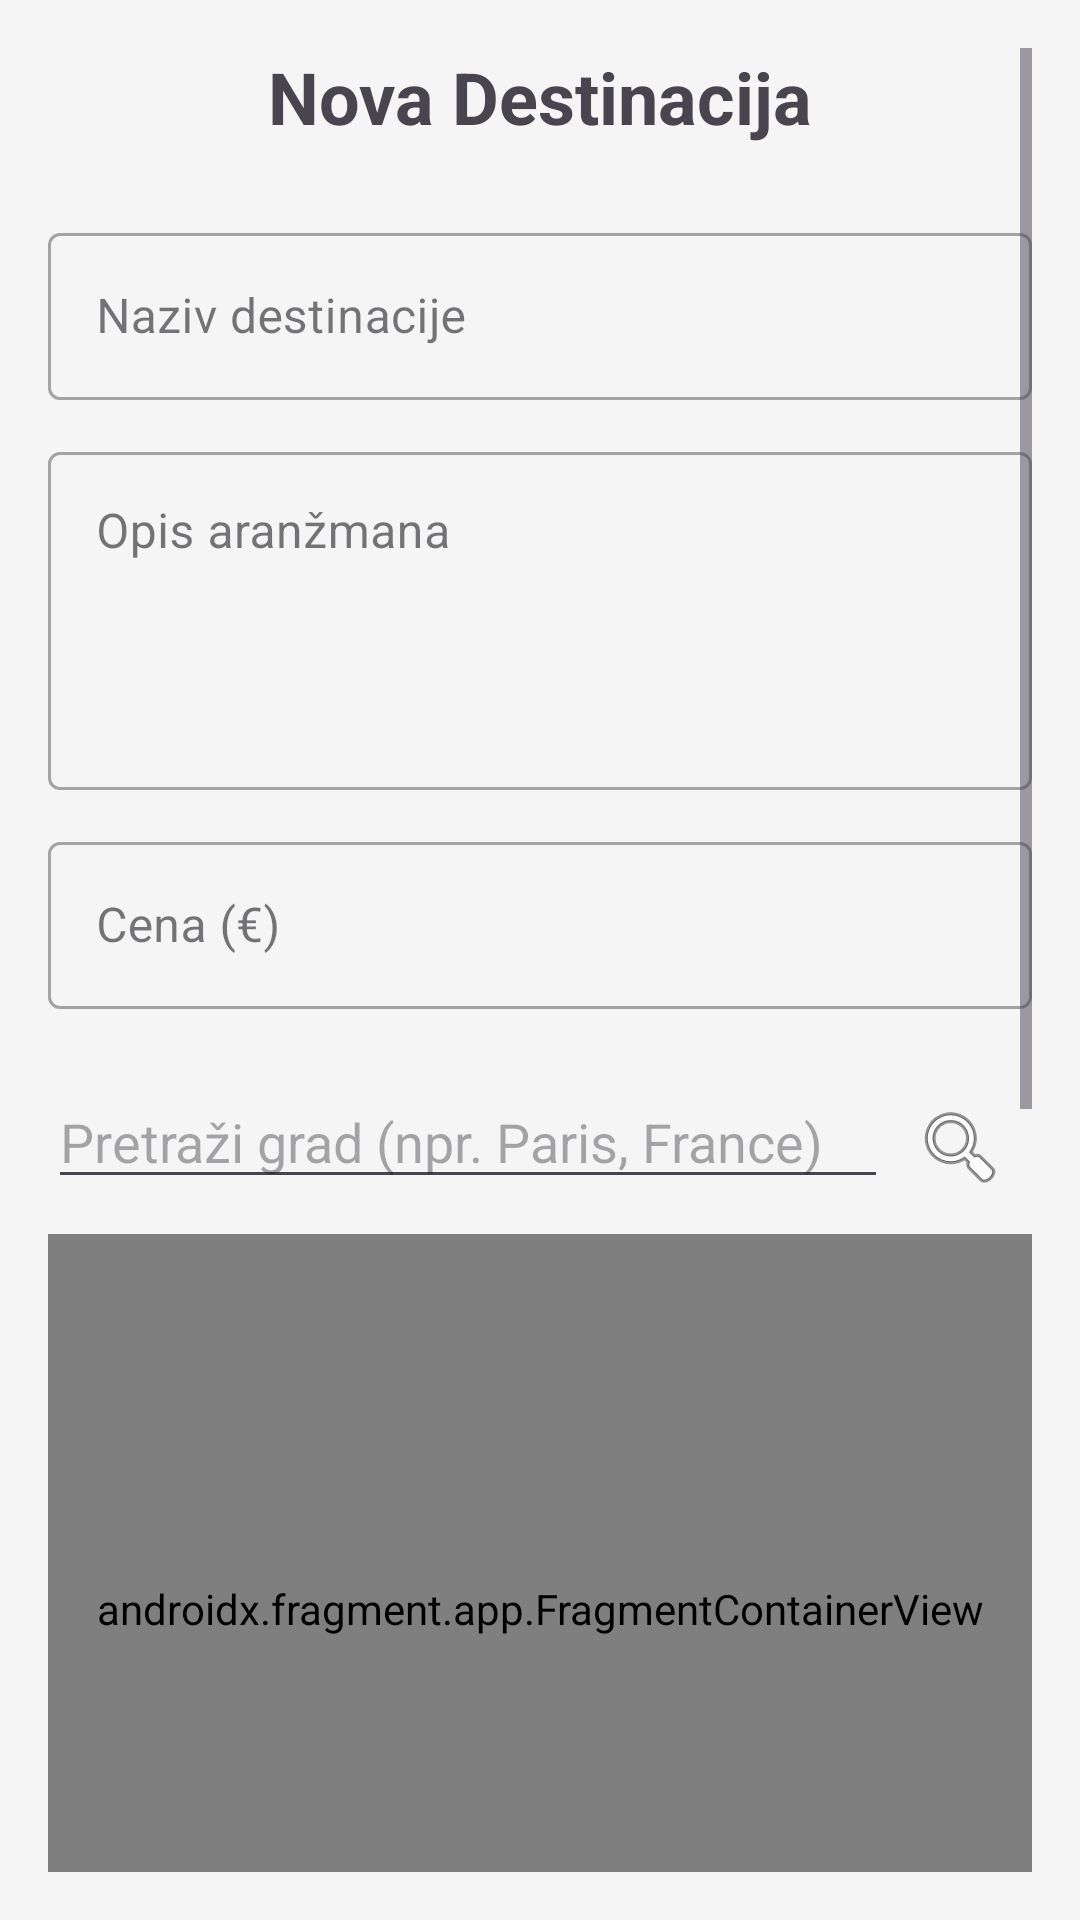

Point at icon controls on the screen. Image size 1080px×1920px, points as [x,y].
search: [960,1147]
